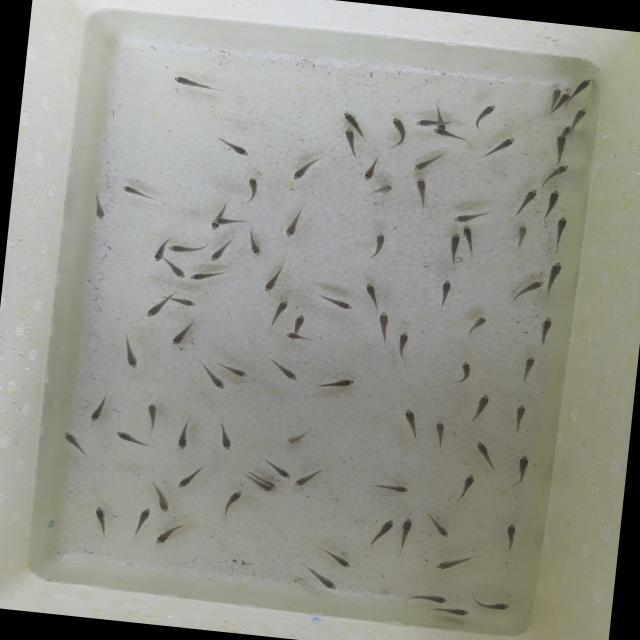fingerling: (164, 313, 202, 352), (256, 258, 286, 298), (59, 430, 96, 462), (151, 520, 188, 550), (468, 436, 499, 470), (258, 454, 295, 482), (174, 462, 208, 492), (432, 551, 476, 574), (536, 161, 573, 188), (463, 390, 493, 423), (510, 276, 545, 303), (314, 294, 361, 314), (401, 588, 453, 606), (448, 203, 486, 227), (484, 133, 516, 161), (84, 392, 112, 424), (151, 479, 175, 516), (294, 466, 328, 492), (442, 228, 464, 268), (396, 405, 421, 440), (113, 427, 151, 450), (465, 596, 513, 614), (207, 235, 236, 264), (408, 153, 448, 174), (356, 277, 386, 305), (142, 293, 172, 321), (290, 153, 316, 185), (458, 313, 490, 339), (322, 374, 358, 397), (116, 334, 140, 368), (429, 277, 454, 309), (220, 490, 245, 522), (549, 212, 571, 248), (512, 453, 536, 486), (422, 604, 471, 620), (92, 502, 115, 536), (452, 472, 478, 502), (368, 516, 394, 546), (370, 307, 392, 342), (172, 76, 220, 92), (514, 185, 540, 214), (412, 176, 434, 210), (282, 207, 306, 238), (370, 479, 416, 495), (497, 518, 516, 556), (170, 238, 206, 258), (264, 296, 289, 324), (322, 550, 357, 570), (472, 101, 495, 131), (368, 230, 391, 260), (212, 421, 234, 452), (450, 360, 477, 385), (313, 570, 341, 594), (269, 358, 298, 381), (216, 139, 252, 157), (120, 182, 154, 201), (540, 187, 563, 215), (200, 369, 228, 392), (509, 400, 532, 428), (366, 181, 399, 200), (88, 193, 111, 220), (532, 316, 554, 344), (518, 354, 540, 382), (396, 516, 413, 552), (246, 228, 265, 260), (188, 268, 225, 284), (218, 362, 252, 379), (144, 400, 163, 430), (134, 507, 152, 538), (425, 515, 448, 539), (546, 260, 564, 290), (432, 417, 450, 447), (387, 116, 406, 144), (394, 326, 410, 359), (176, 419, 192, 452), (458, 223, 479, 248), (362, 156, 380, 185), (552, 132, 568, 164), (568, 106, 588, 130), (512, 222, 530, 248), (278, 331, 316, 343), (414, 116, 446, 130), (172, 294, 204, 308), (432, 126, 463, 140), (164, 262, 188, 280), (246, 175, 260, 204), (286, 429, 308, 447), (343, 128, 358, 154), (212, 215, 242, 228), (572, 78, 589, 100), (342, 112, 362, 130), (154, 238, 169, 262), (290, 311, 308, 331), (245, 479, 272, 492), (547, 84, 561, 108), (554, 92, 570, 110)
